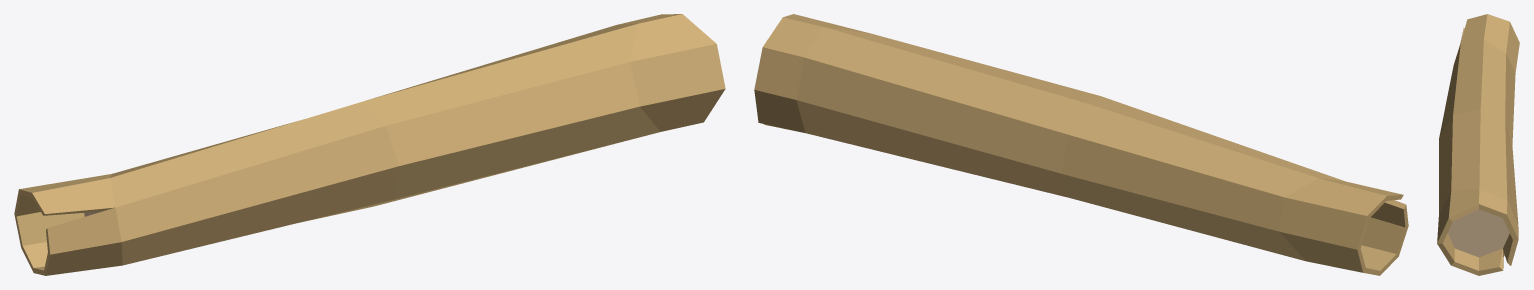
Rendered from Simple_Log_07.fbx.
The picture shows the model from 3 angles, left to right: view 1: azimuth 30°, elevation 25°; view 2: azimuth 150°, elevation 25°; view 3: azimuth 270°, elevation 25°; orthographic projection. The views are drawn at different scales.
Visible parts, largest first — view 1: Simple_Log_07; view 2: Simple_Log_07; view 3: Simple_Log_07.
Boxes of the visible parts, x1,y1,x2,y2 form: Simple_Log_07: (14,14,725,275); Simple_Log_07: (754,14,1408,275); Simple_Log_07: (1437,14,1519,275).
Size of the model in its own units: 248 by 41.68 by 40.91.
